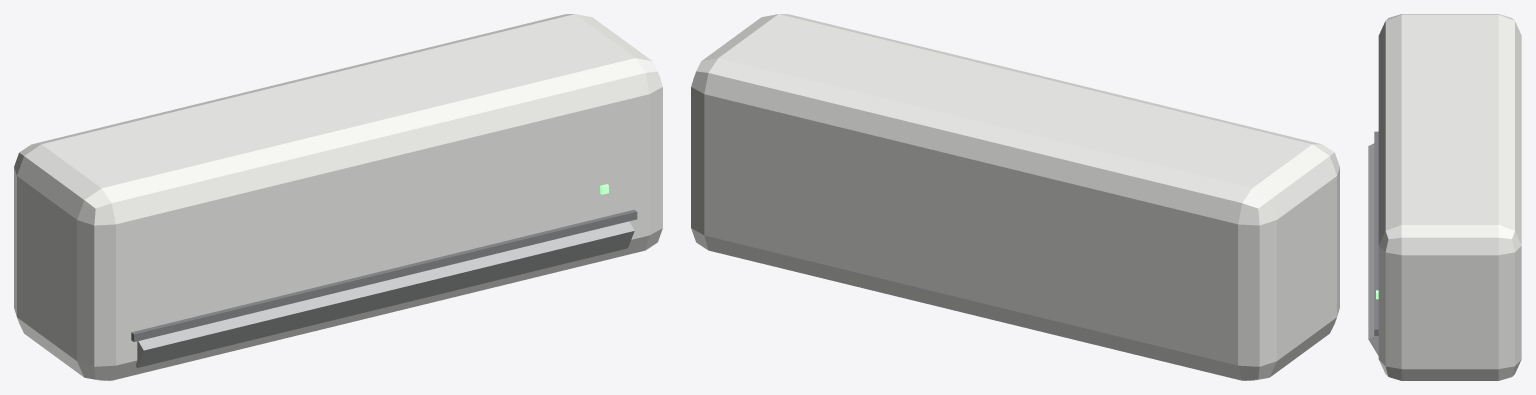
The model's file is ac_wall.glb.
3 views of the same model, side by side, from view 1: azimuth 30°, elevation 25°; view 2: azimuth 150°, elevation 25°; view 3: azimuth 270°, elevation 25° (orthographic). The views are drawn at different scales.
Parts seen in each view (by area): view 1: ac_wall; view 2: ac_wall; view 3: ac_wall.
Boxes of the visible parts, x1,y1,x2,y2 form: ac_wall: (14, 14, 662, 380); ac_wall: (691, 14, 1339, 380); ac_wall: (1368, 14, 1521, 380).
Size of the model in its own units: 0.95 by 0.3 by 0.2684.
Materials: 2 (1 with a texture image).
